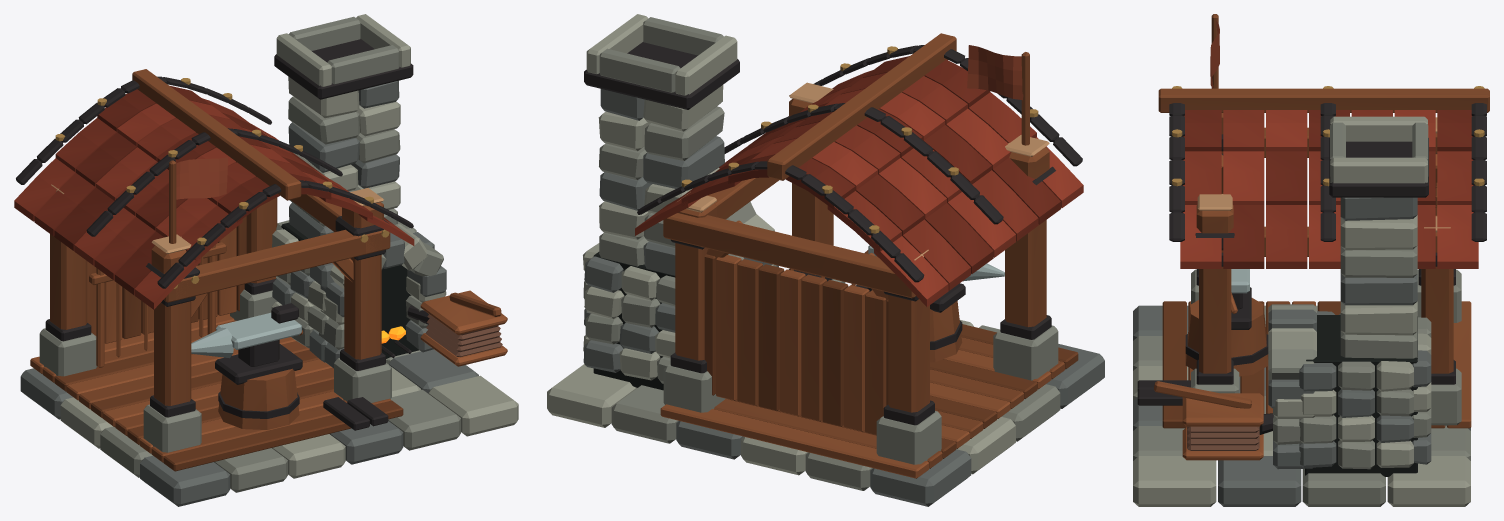
The model's file is source.glb.
The picture shows the model from 3 angles, left to right: view 1: azimuth 30°, elevation 25°; view 2: azimuth 150°, elevation 25°; view 3: azimuth 270°, elevation 25°; orthographic projection. The views are drawn at different scales.
Parts seen in each view (by area): view 1: Rootbound Hall · evaluated preview mesh; view 2: Rootbound Hall · evaluated preview mesh; view 3: Rootbound Hall · evaluated preview mesh.
Part boxes in pixels (x1,y1,x2,y2): Rootbound Hall · evaluated preview mesh: (14,14,518,506); Rootbound Hall · evaluated preview mesh: (547,14,1104,506); Rootbound Hall · evaluated preview mesh: (1133,14,1489,506).
Bounding box in the file's own units: 5.44 × 4.61 × 4.42.
